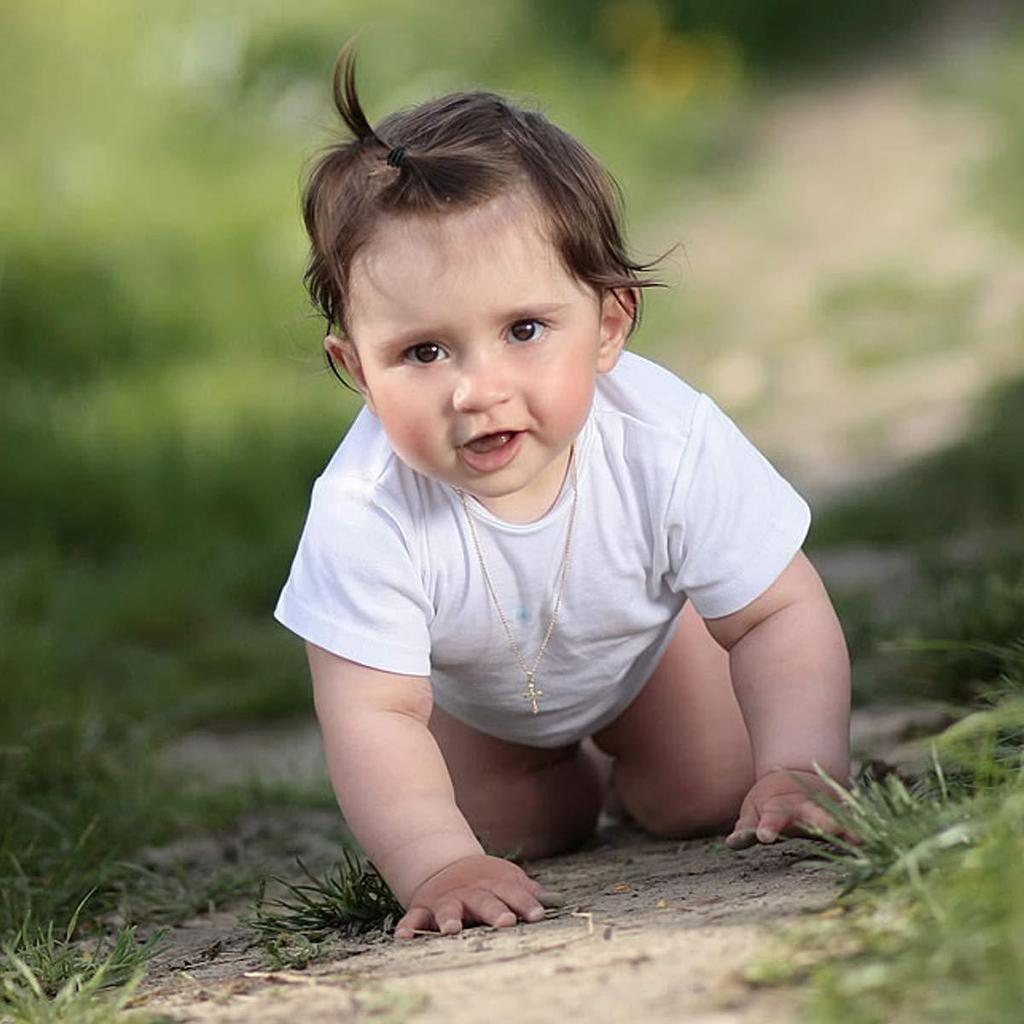child: (208, 63, 921, 915)
